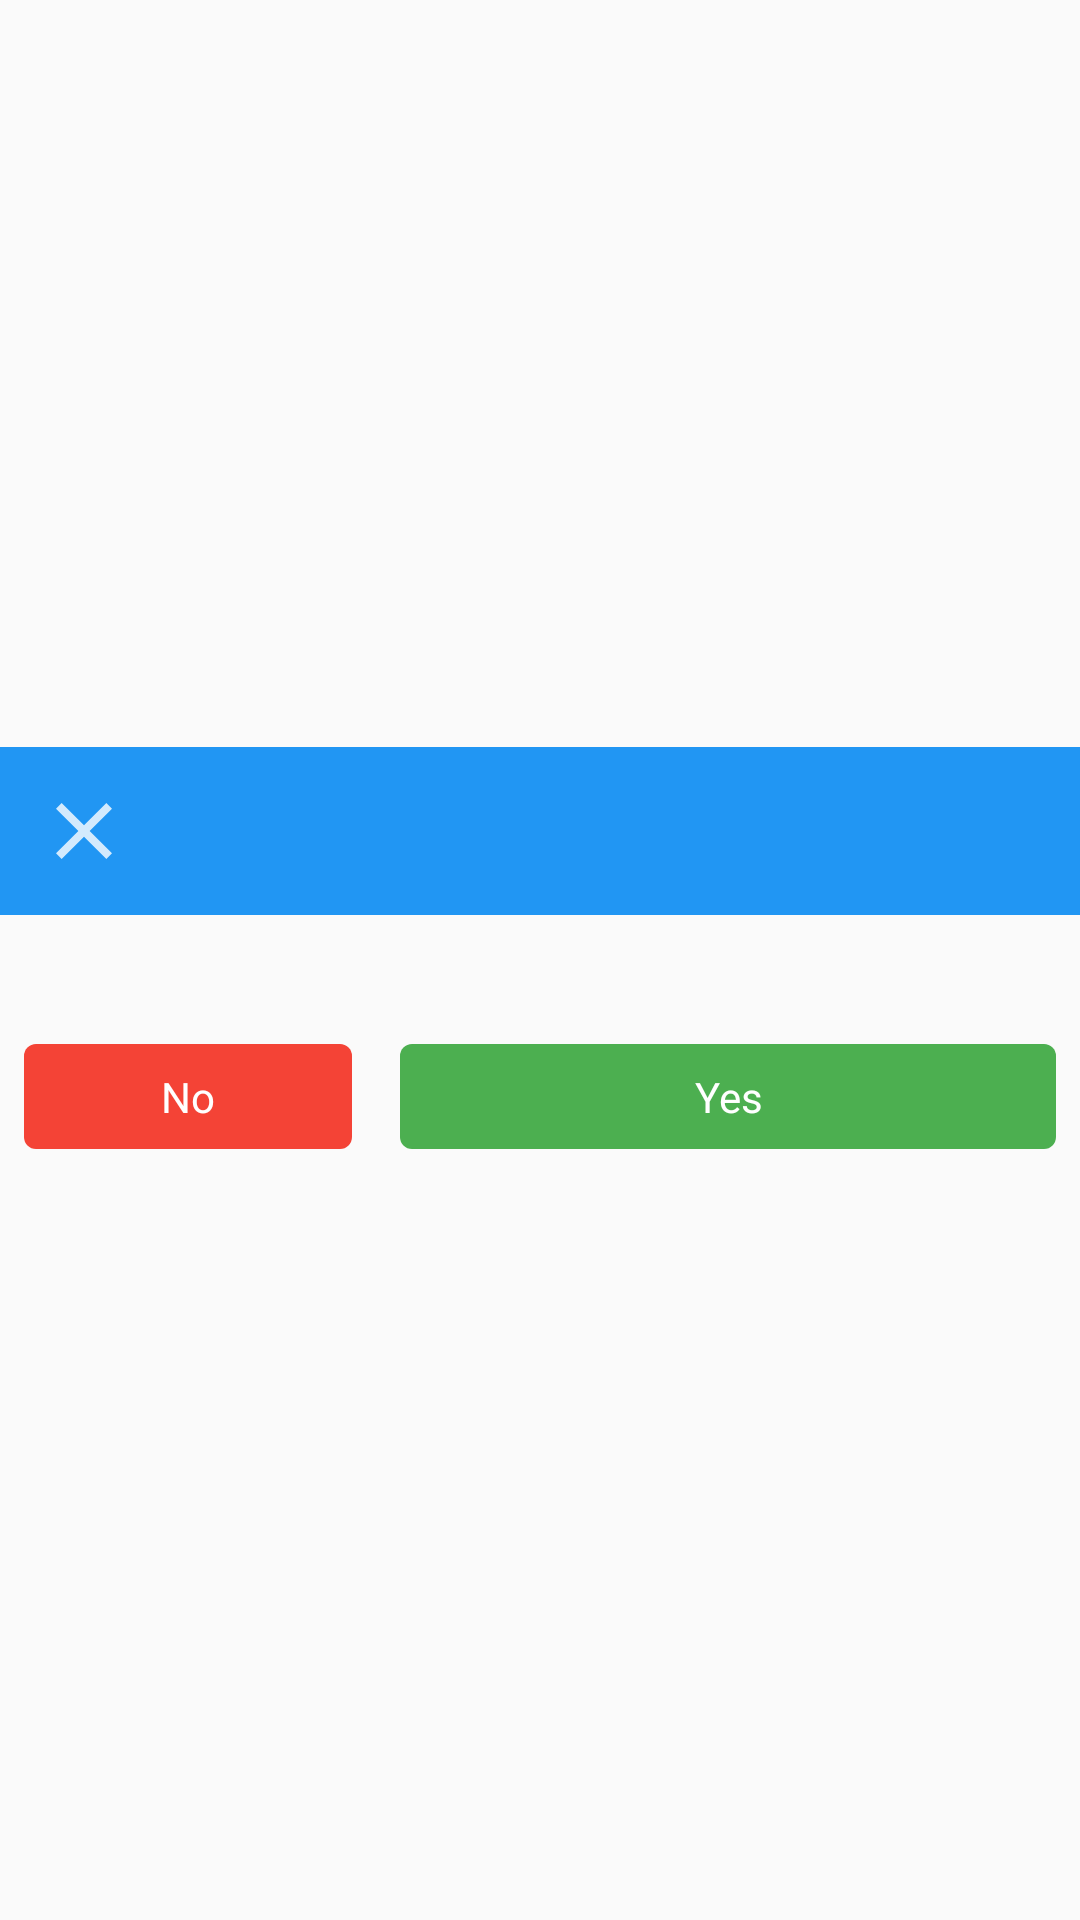

Where to tap for icons on this 1080*1920 app screen, as (x=x, y=y):
close: (x=84, y=831)
